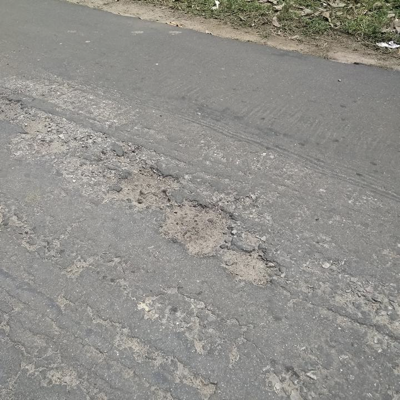pothole: (0, 94, 79, 156), (158, 200, 238, 258), (115, 163, 181, 212), (223, 247, 280, 291)
